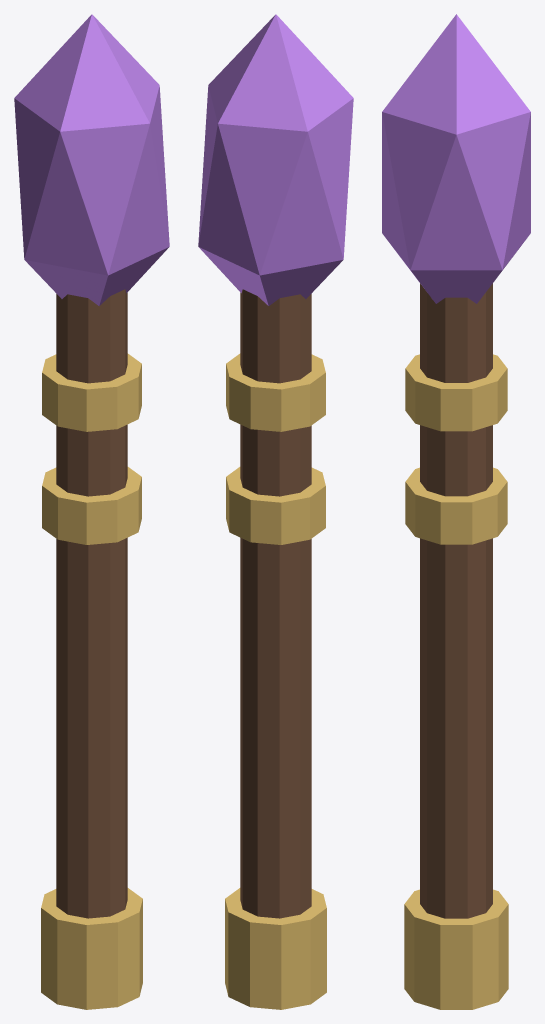
File: wand-2.glb
3 renders of one model, left to right at view 1: azimuth 30°, elevation 25°; view 2: azimuth 150°, elevation 25°; view 3: azimuth 270°, elevation 25°, orthographic.
Visible parts, largest first — view 1: Twisted walnut grip.004, Faceted moon crystal.004, Pommel.004, Rank gold inlay.008, Rank gold inlay.007; view 2: Twisted walnut grip.004, Faceted moon crystal.004, Pommel.004, Rank gold inlay.008, Rank gold inlay.007; view 3: Twisted walnut grip.004, Faceted moon crystal.004, Pommel.004, Rank gold inlay.008, Rank gold inlay.007.
Part boxes in pixels (left/top/right/bottom): Twisted walnut grip.004: left=56, top=289, right=127, bottom=918; Faceted moon crystal.004: left=14, top=14, right=169, bottom=305; Pommel.004: left=41, top=888, right=142, bottom=1009; Rank gold inlay.008: left=42, top=353, right=141, bottom=431; Rank gold inlay.007: left=42, top=467, right=141, bottom=544; Twisted walnut grip.004: left=240, top=289, right=311, bottom=918; Faceted moon crystal.004: left=198, top=14, right=353, bottom=305; Pommel.004: left=225, top=888, right=326, bottom=1009; Rank gold inlay.008: left=226, top=353, right=325, bottom=431; Rank gold inlay.007: left=226, top=467, right=325, bottom=544; Twisted walnut grip.004: left=420, top=283, right=492, bottom=918; Faceted moon crystal.004: left=382, top=14, right=530, bottom=303; Pommel.004: left=404, top=889, right=508, bottom=1009; Rank gold inlay.008: left=405, top=354, right=507, bottom=431; Rank gold inlay.007: left=405, top=467, right=507, bottom=544.
Bounding box in the file's own units: 0.1503 × 1.03 × 0.1429.
